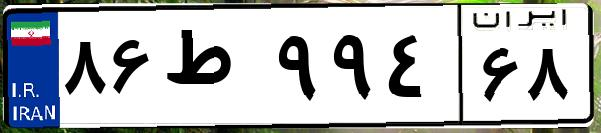4: (385, 28, 445, 110)
6: (475, 38, 525, 113), (110, 28, 158, 98)
8: (57, 26, 110, 100), (525, 38, 570, 115)
9: (270, 28, 330, 110), (330, 28, 385, 110)
ط: (158, 20, 270, 120)
